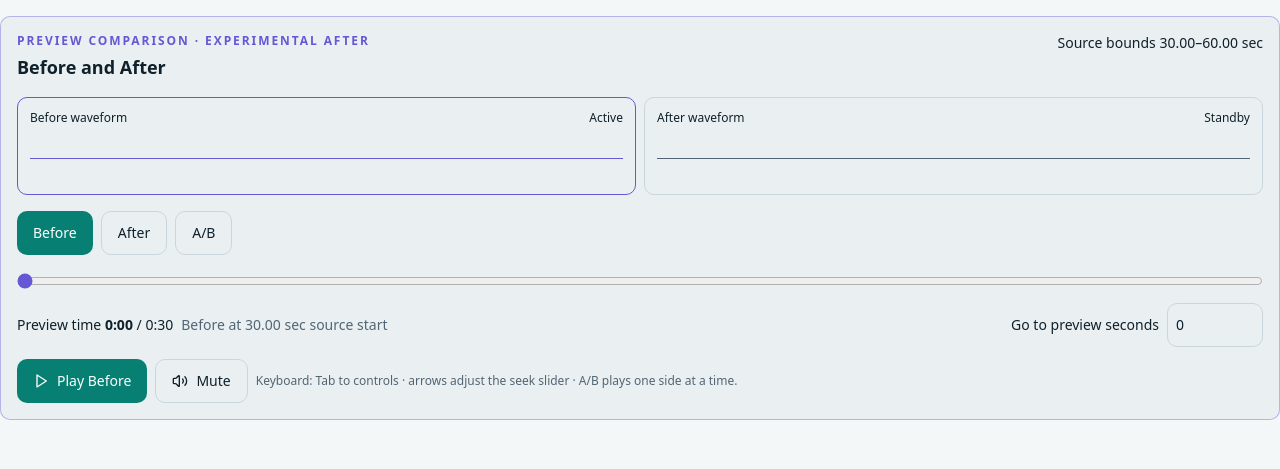
Test: preview comparison › keeps the playhead on a mode switch and explains autoplay rejection
Click the button with aria-label "Play preview comparison": (82, 381) [17,359,147,403]
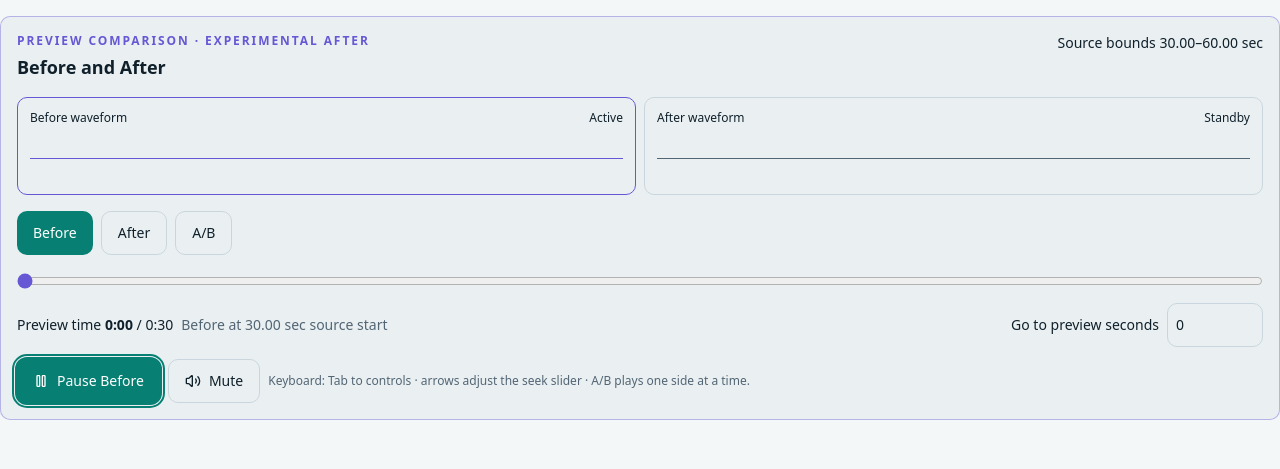
Click the button "After": (134, 233) [101,211,167,255]
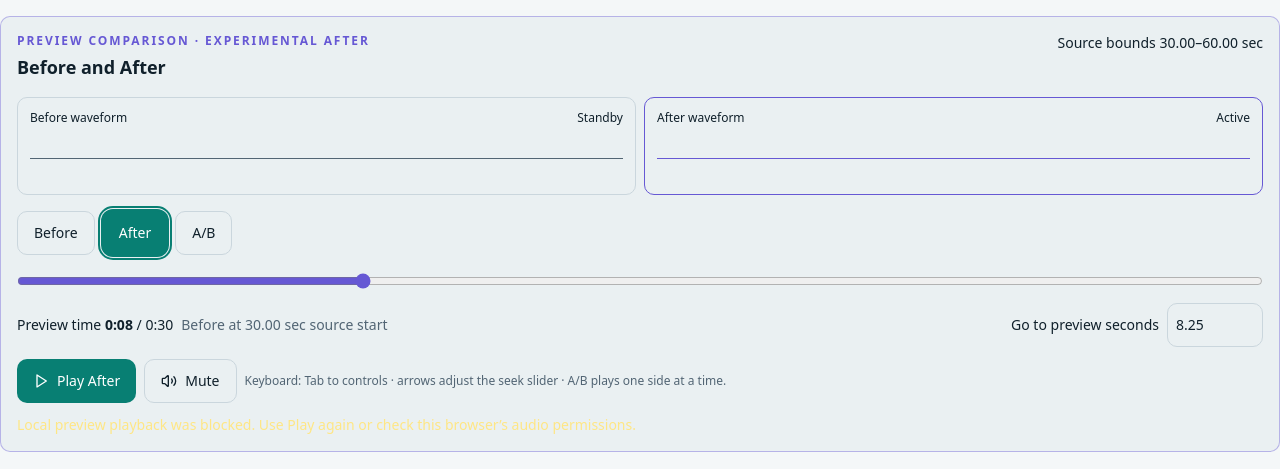
Expected: the message shows "Local preview playback was blocked", [17,415,636,434]
